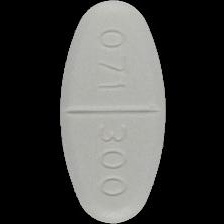66267-124: (0, 0, 224, 224)
